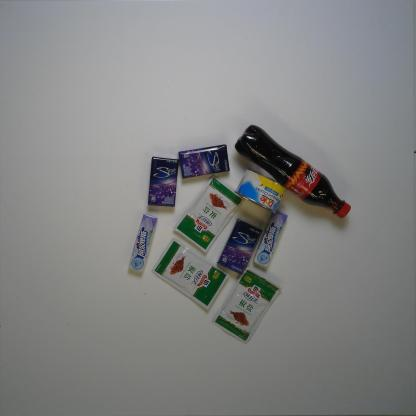Candy: (254, 210, 289, 270), (128, 213, 158, 272)
Canned Food: (235, 168, 282, 214)
Drink: (234, 124, 351, 221)
Gum: (217, 218, 261, 274), (178, 144, 231, 180), (146, 156, 178, 208)
Seasoner: (150, 238, 229, 312), (174, 173, 243, 254), (210, 268, 283, 344)
